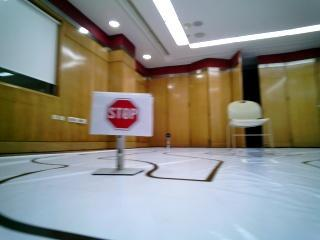stop: (99, 93, 149, 132)
